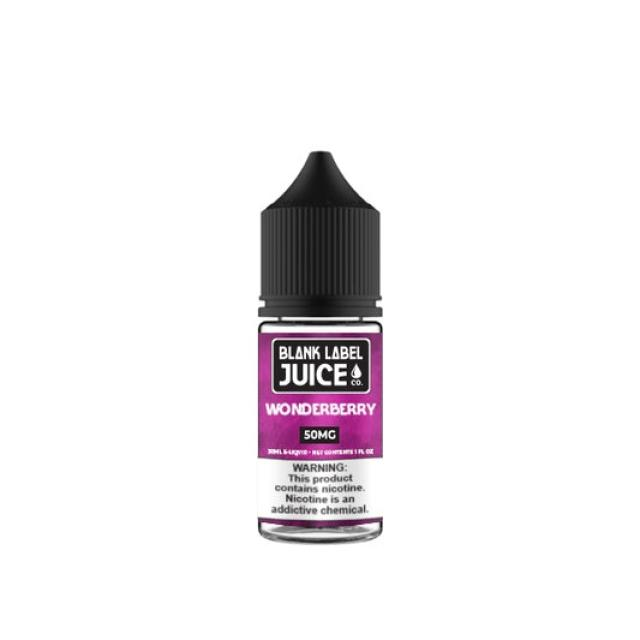Vape-images: (251, 140, 396, 552)
